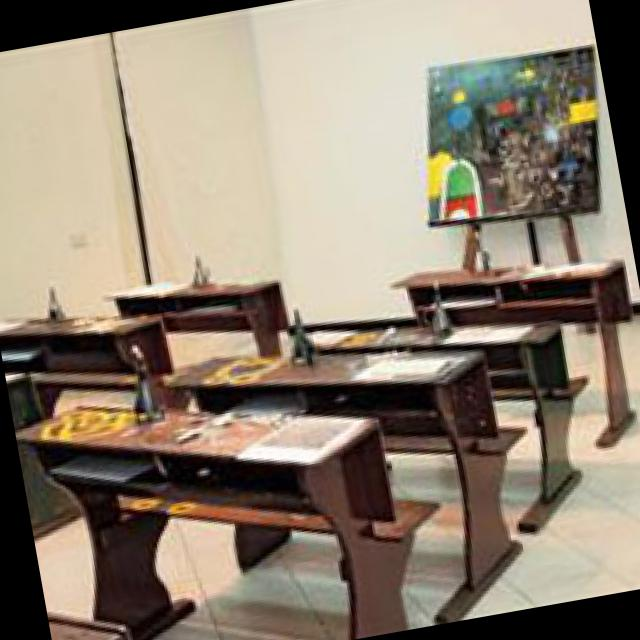desk calendar: (0, 8, 296, 508), (20, 402, 446, 640), (158, 349, 529, 617), (294, 318, 591, 526), (394, 256, 639, 441), (0, 312, 177, 408), (105, 274, 290, 353)
desk divider: (51, 609, 133, 640)
floor -X: (33, 309, 640, 640)
picture crop: (430, 43, 604, 222)
wall clock: (247, 0, 640, 329)
